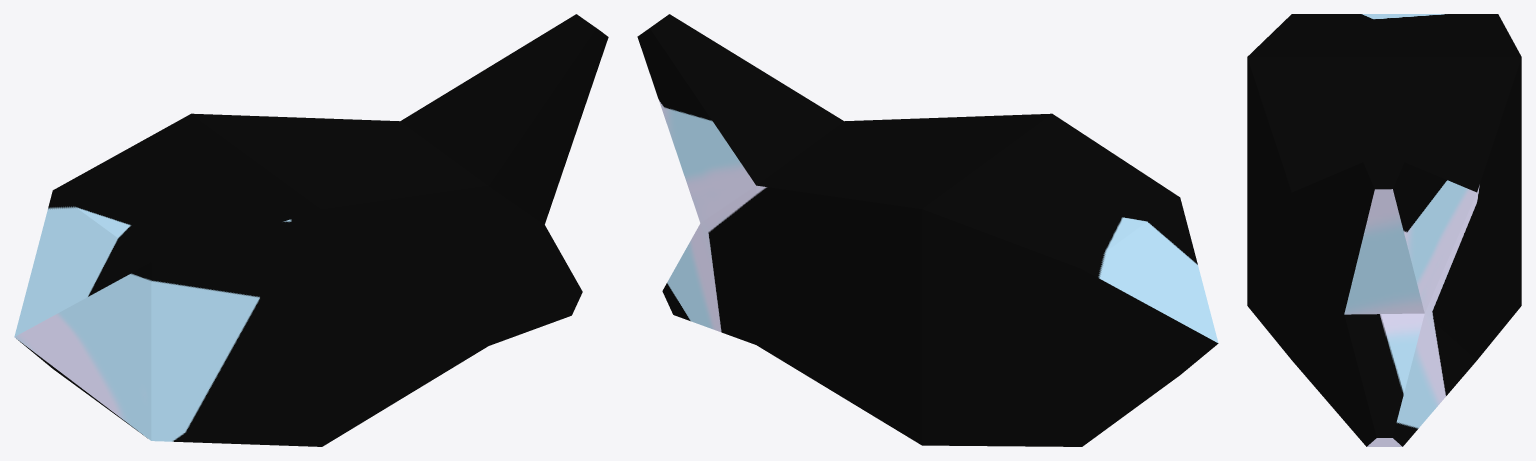
Rendered from Fish1.glb.
3 renders of one model, left to right at view 1: azimuth 30°, elevation 25°; view 2: azimuth 150°, elevation 25°; view 3: azimuth 270°, elevation 25°, orthographic. The views are drawn at different scales.
Parts seen in each view (by area): view 1: poisson 1 colo1; view 2: poisson 1 colo1; view 3: poisson 1 colo1.
Boxes of the visible parts, bbox=[...] form: poisson 1 colo1: bbox=[14, 14, 608, 446]; poisson 1 colo1: bbox=[637, 14, 1218, 446]; poisson 1 colo1: bbox=[1247, 14, 1521, 446].
Bounding box in the file's own units: 0.5375 × 0.2616 × 0.2086.
1 material, 1 textured.
